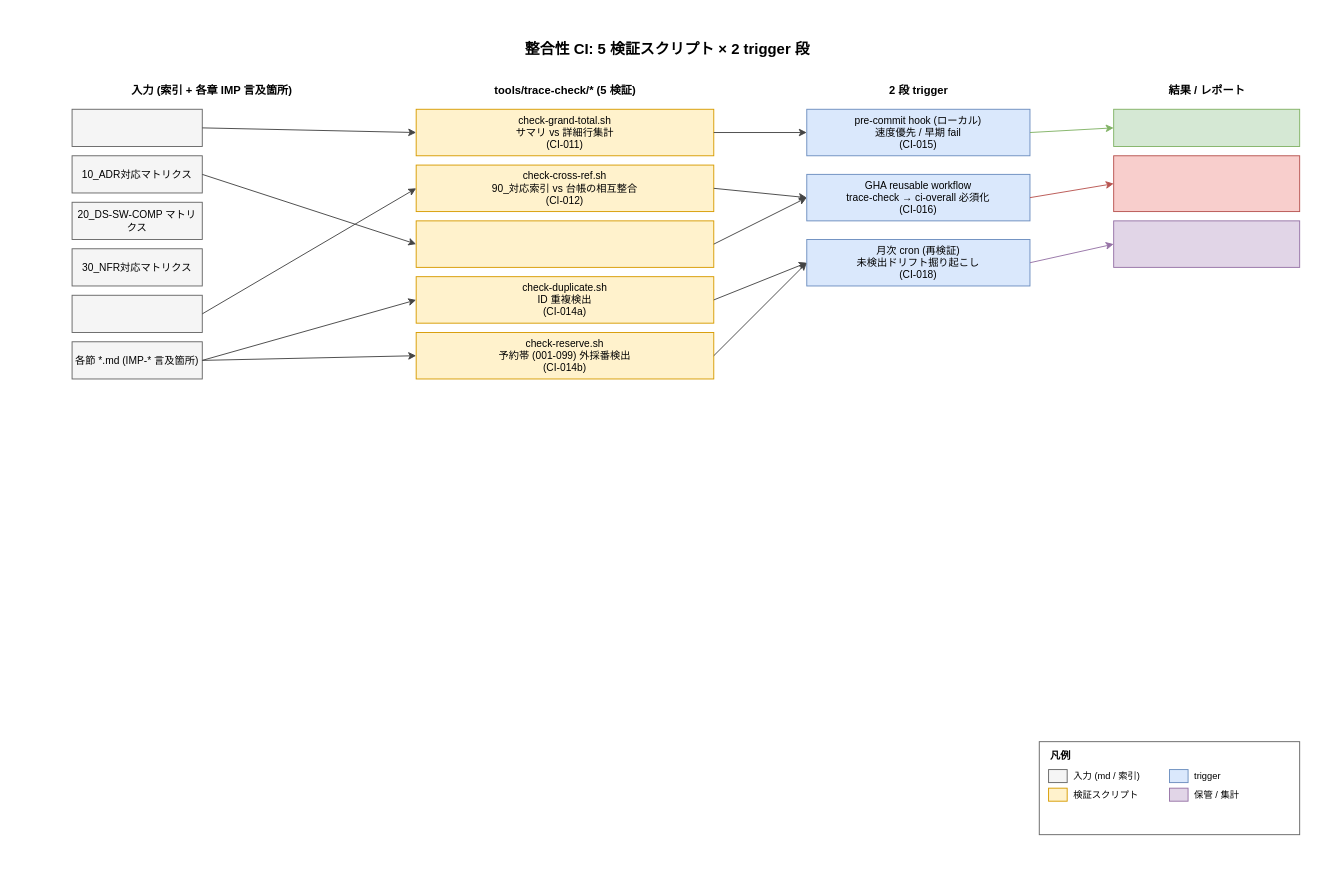
Image size: 1334x869. Some labels were removed from this diagram. Each missing label, with the centre of its shape:
"00_IMP-ID台帳" belongs at (136,127).
"check-orphan.sh ADR/DS/NFR マトリクスの孤立 ID 検出 (CI-013)" belongs at (564,243).
"FAIL → reject + Markdown レポート (CI-017)" belongs at (1206,183).
"Loki + Backstage 月次傾向集計" belongs at (1206,243).
"OK (merge 可)" belongs at (1206,127).
"各章 90_対応索引 (12 章)" belongs at (136,313).
